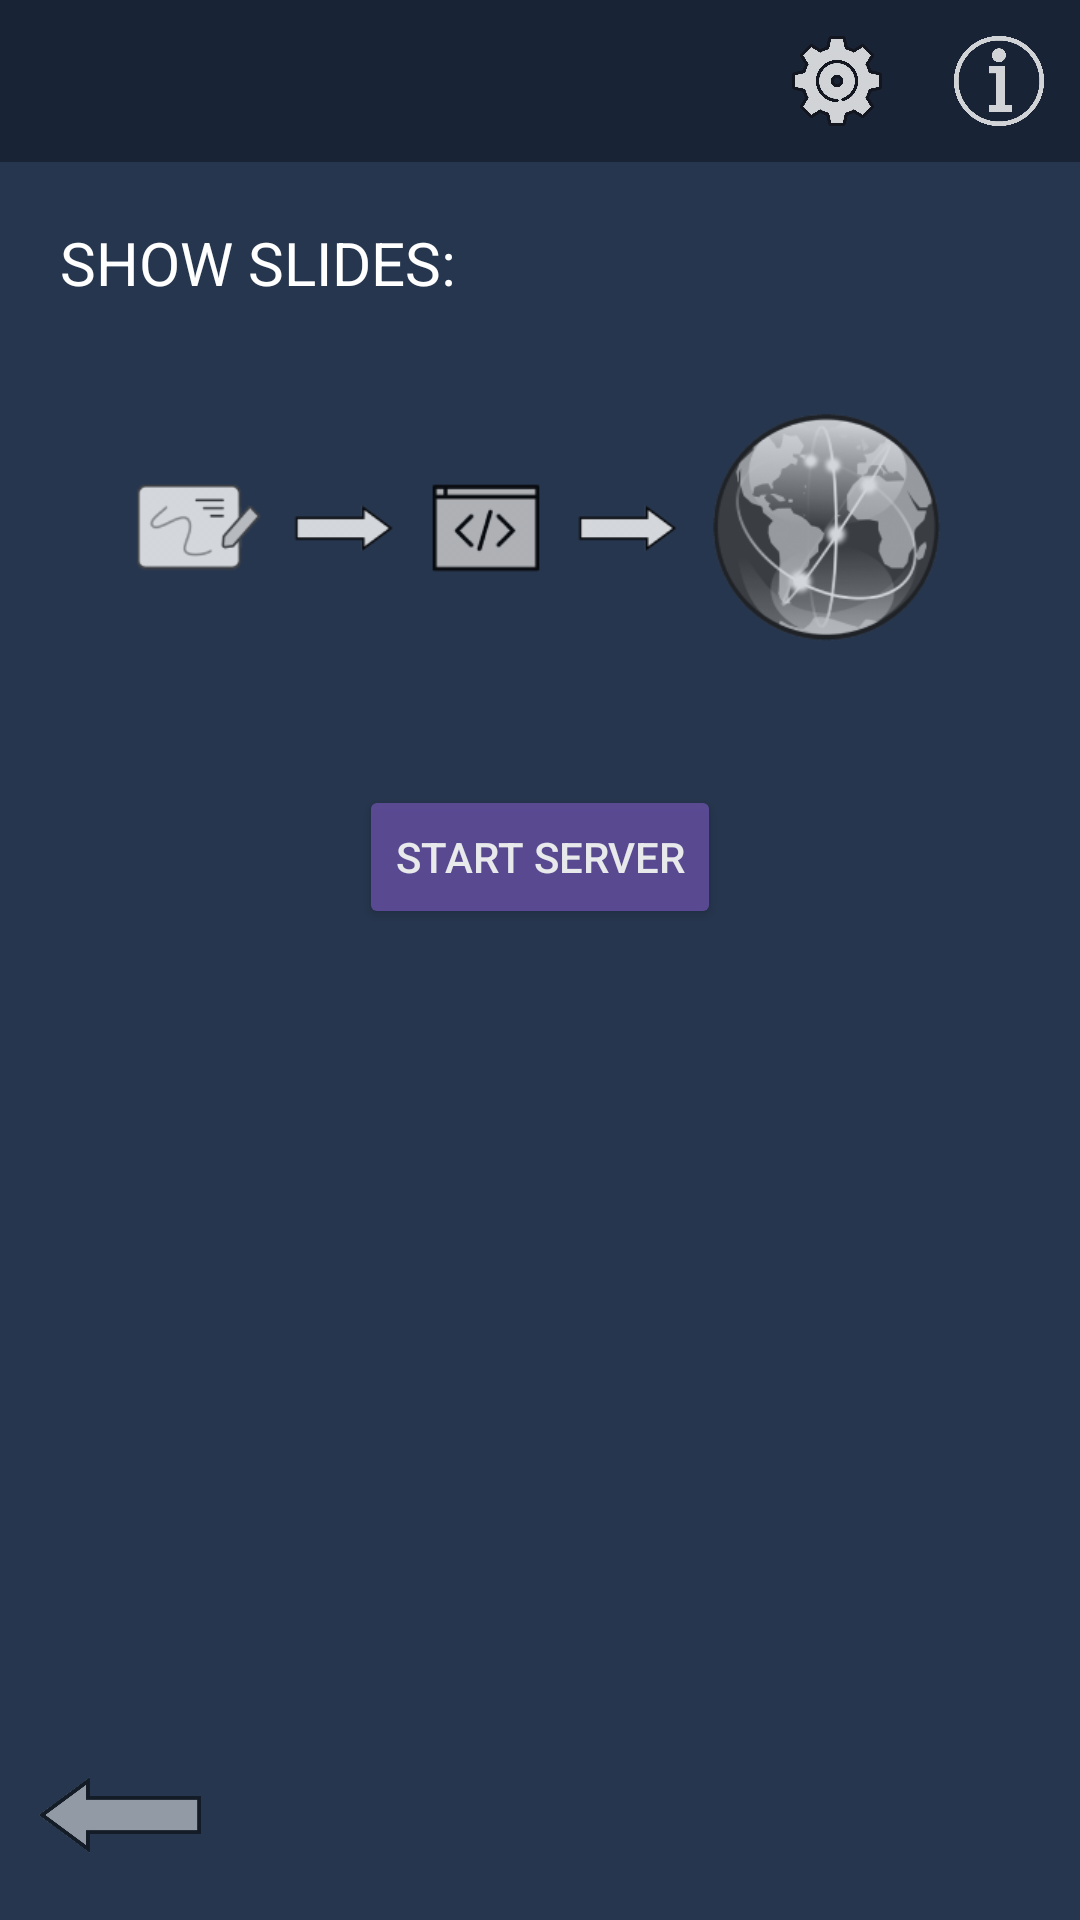

Icons on this 1080px x 1920px Android screen, each with its box as bbox=[x1, y1, x2, y2]:
infobox: bbox=[954, 36, 1044, 126]
settings: bbox=[795, 39, 879, 123]
